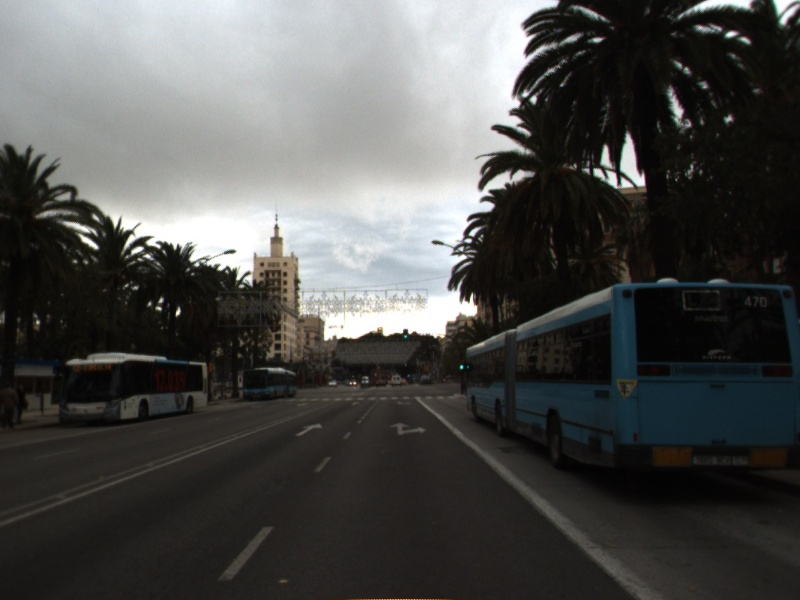STRAIGHT: (292, 421, 326, 438)
STRAIGHT_RIGHT: (387, 420, 431, 438)
